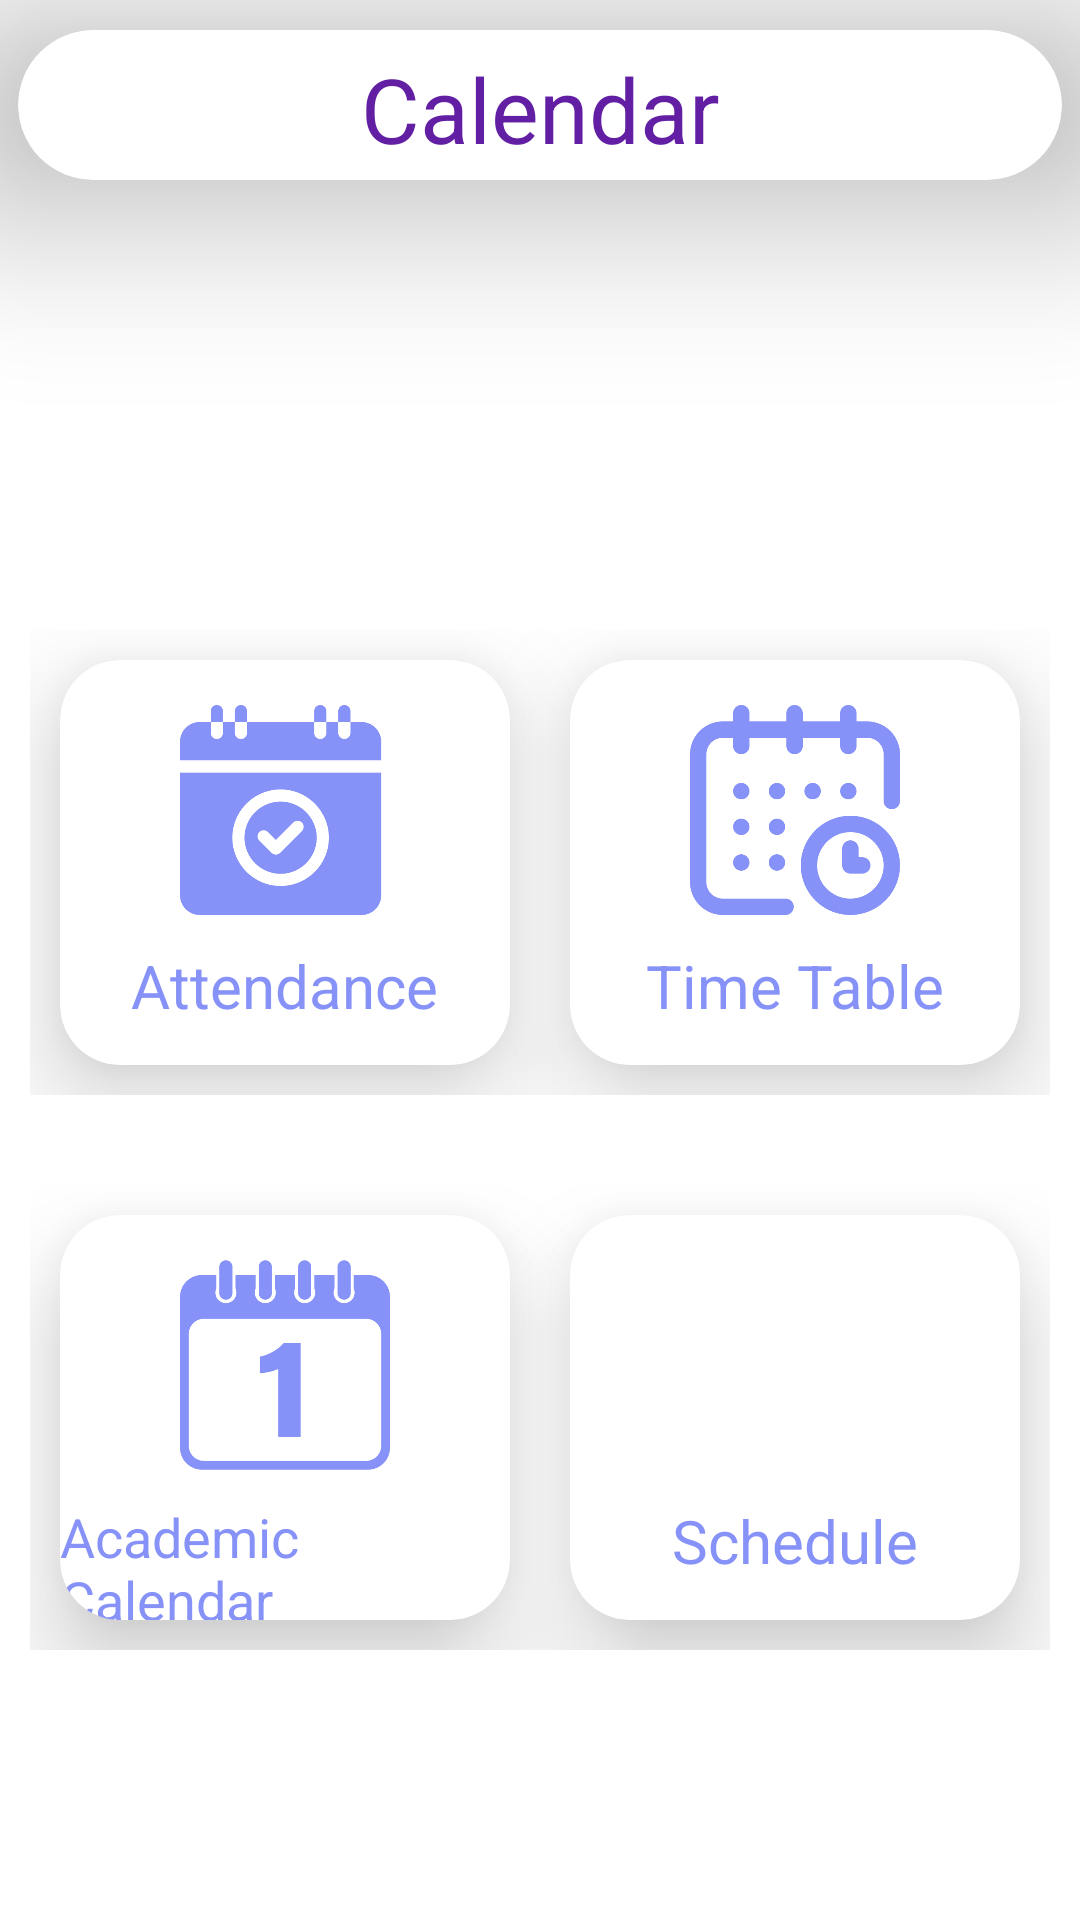

Point at icon controls on the screen. Image size 1080 x 1920, points as (x=x, y=y).
acc cal: (x=285, y=1365)
calendar: (x=280, y=810)
